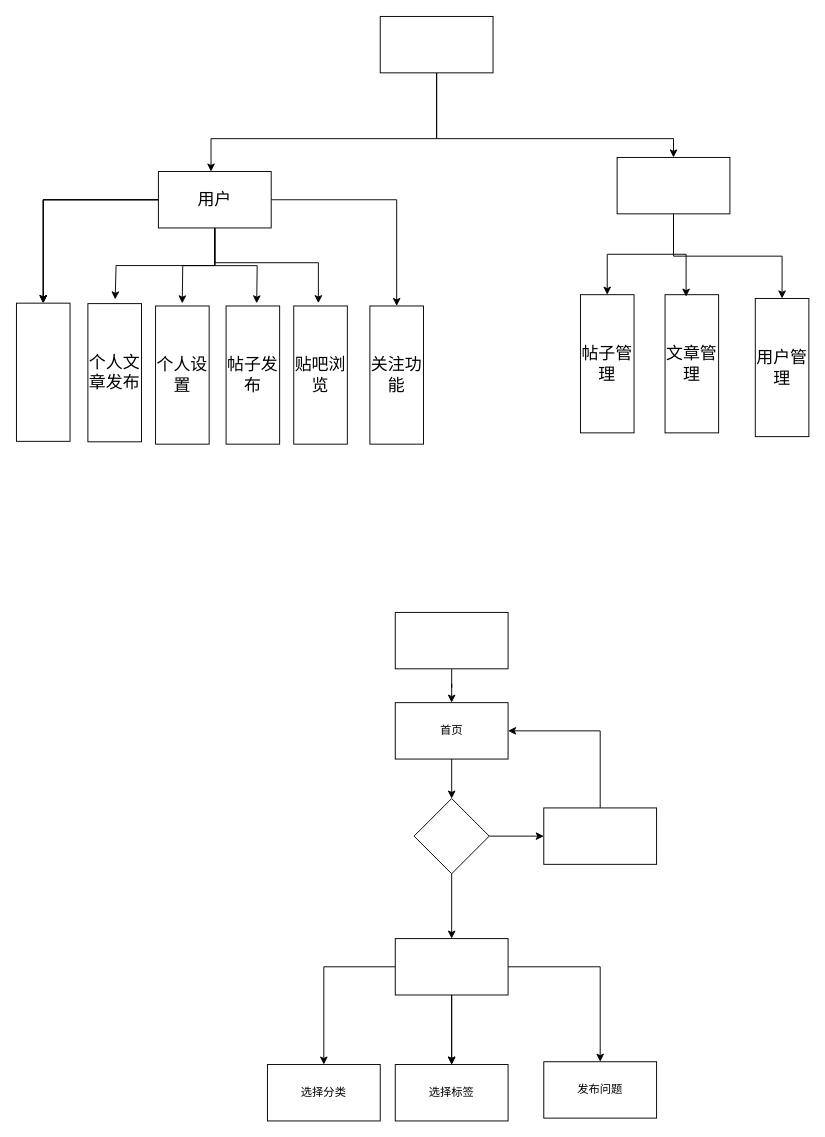
The diagram is 825 pixels wide and 1137 high, and some of its shapes have lost their labels. The centre of each missing label's shape, as x and y in pixels:
发布帖子: point (451, 966)
开始: point (451, 640)
怀院贴吧: point (436, 44)
是否登录: point (451, 836)
登录、注册: point (43, 371)
登录页面: point (600, 835)
管理员: point (673, 185)
